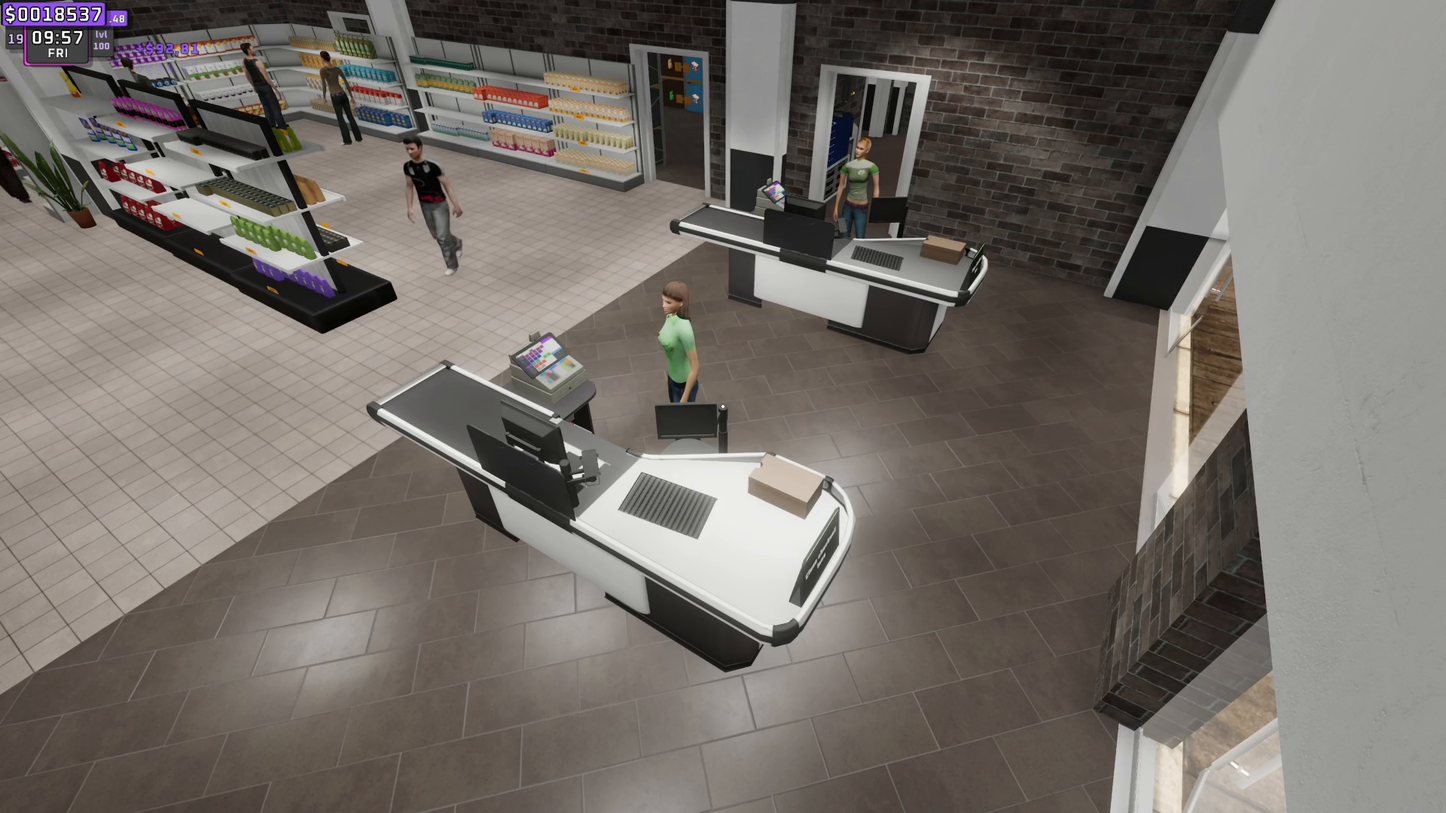Employee: (658, 276, 707, 402), (839, 133, 883, 225)
